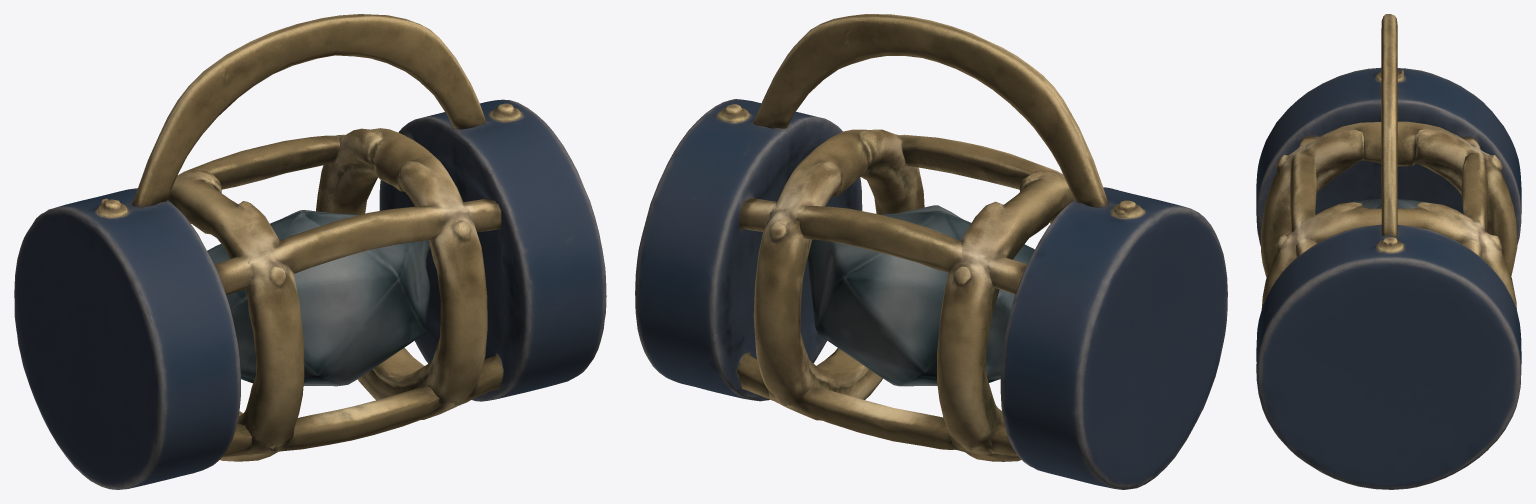
File: star-cell-polished.glb
3 views of the same model, side by side, from view 1: azimuth 30°, elevation 25°; view 2: azimuth 150°, elevation 25°; view 3: azimuth 270°, elevation 25° (orthographic). The views are drawn at different scales.
Parts seen in each view (by area): view 1: left_endcap, brass_cage, right_endcap, carry_handle, crystal_core; view 2: left_endcap, brass_cage, right_endcap, crystal_core, carry_handle; view 3: right_endcap, brass_cage, left_endcap, carry_handle, crystal_core.
Boxes of the visible parts, x1=… form: left_endcap: x1=14, y1=188, x2=240, y2=489; brass_cage: x1=167, y1=128, x2=503, y2=461; right_endcap: x1=379, y1=99, x2=606, y2=401; carry_handle: x1=132, y1=14, x2=485, y2=208; crystal_core: x1=207, y1=210, x2=430, y2=386; left_endcap: x1=1000, y1=187, x2=1227, y2=489; brass_cage: x1=737, y1=129, x2=1073, y2=461; right_endcap: x1=635, y1=99, x2=862, y2=401; crystal_core: x1=807, y1=205, x2=1034, y2=386; carry_handle: x1=753, y1=14, x2=1108, y2=207; right_endcap: x1=1256, y1=224, x2=1521, y2=489; brass_cage: x1=1261, y1=121, x2=1517, y2=309; left_endcap: x1=1256, y1=67, x2=1521, y2=246; carry_handle: x1=1381, y1=14, x2=1397, y2=237; crystal_core: x1=1348, y1=199, x2=1427, y2=208.
Size of the model in its own units: 2 by 1.74 by 1.16.
1 material, 1 textured.
